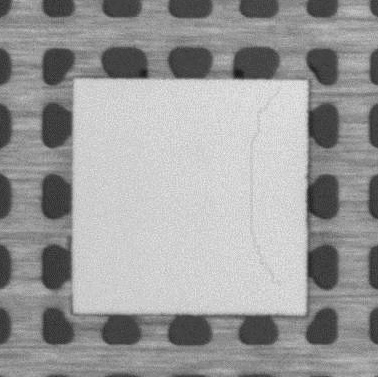DIE_CRACK: (248, 85, 285, 290)
